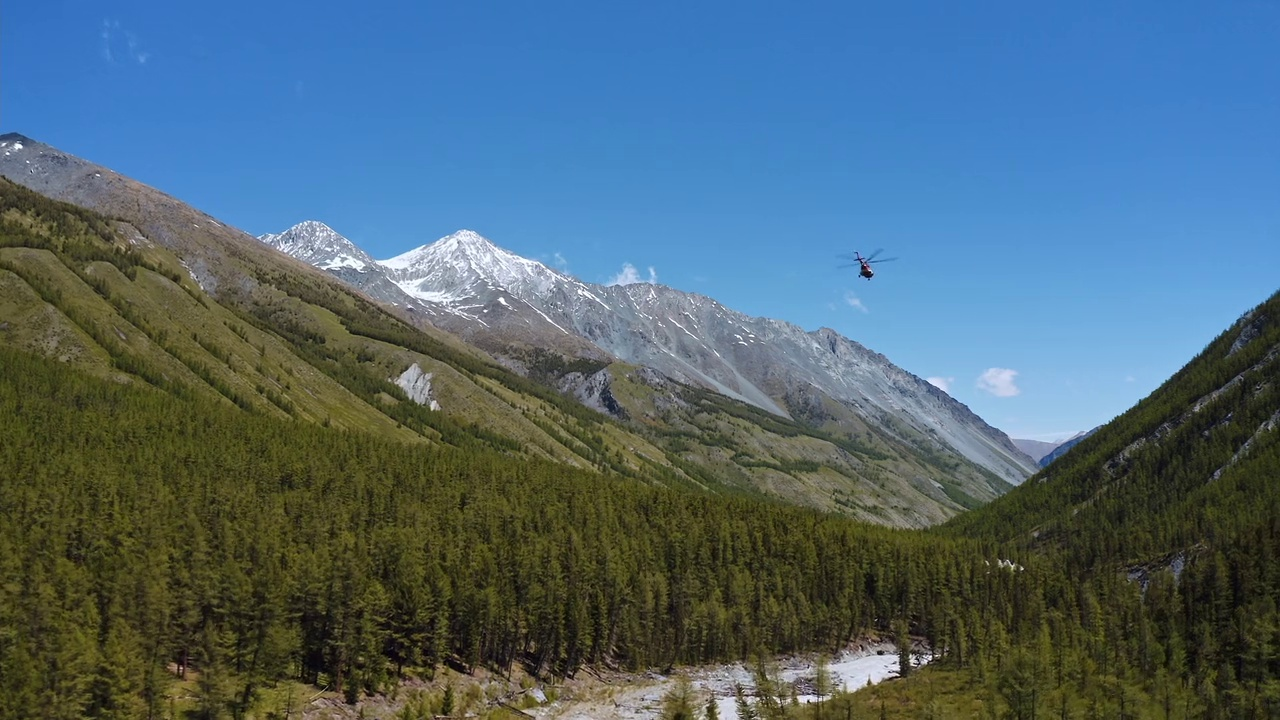heli: (834, 248, 895, 282)
